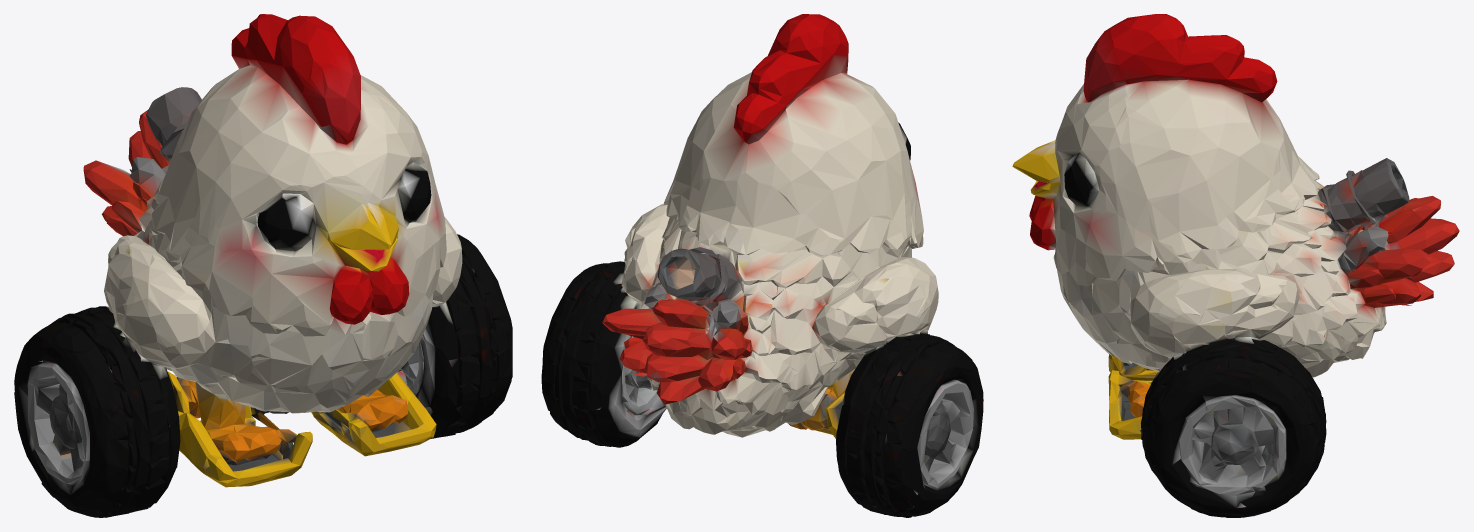
File: chicken-race.glb
3 renders of one model, left to right at view 1: azimuth 30°, elevation 25°; view 2: azimuth 150°, elevation 25°; view 3: azimuth 270°, elevation 25°, orthographic. The views are drawn at different scales.
Parts seen in each view (by area): view 1: Mesh_0; view 2: Mesh_0; view 3: Mesh_0.
Boxes of the visible parts, x1,y1,x2,y2 form: Mesh_0: [14, 14, 512, 517]; Mesh_0: [541, 14, 983, 517]; Mesh_0: [1012, 14, 1459, 517].
Size of the model in its own units: 1.74 by 1.9 by 1.81.
